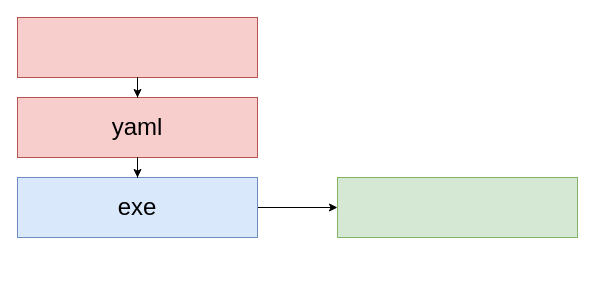
Some shapes in this 595 by 295 pixel diagram are drawn without their labels. The box of each missing label's shape, as (x1, y1, x2, y2) in pixels:
html: (336, 176, 578, 238)
template: (16, 16, 258, 78)
